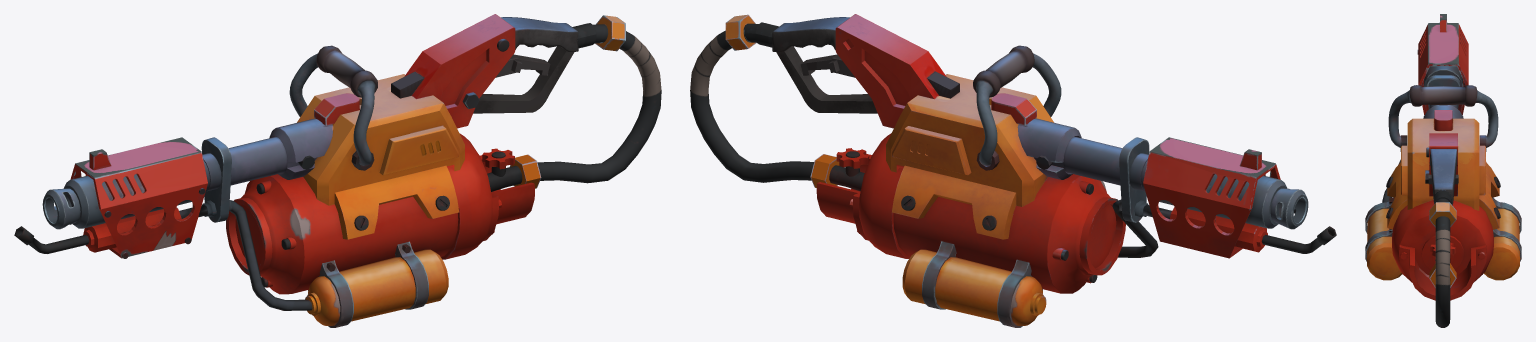
Rendered from Gun.fbx.
3 renders of one model, left to right at view 1: azimuth 30°, elevation 25°; view 2: azimuth 150°, elevation 25°; view 3: azimuth 270°, elevation 25°, orthographic. The views are drawn at different scales.
Visible parts, largest first — view 1: Cylinder.087, Cube.036, Cube.037, Cylinder.051, Vert.027, Cylinder.048, Retopo_Vert.002, Cylinder.049, Retopo_Vert.026, Cube.039, Vert.025, Cylinder.076 (+8 smaller); view 2: Cylinder.087, Cube.036, Cube.037, Cylinder.051, Vert.027, Cylinder.048, Retopo_Vert.002, Cylinder.049, Retopo_Vert.026, Cube.039, Cylinder.076, Retopo_Vert.001 (+8 smaller); view 3: Cylinder.087, Cube.036, Cylinder.048, Cube.037, Retopo_Vert.026, Retopo_Vert.002, Cylinder.049, Retopo_Vert.001, Cylinder.051, Cylinder.076, Vert.027, Cylinder.061 (+4 smaller).
Part boxes in pixels (x1,y1,x2,y2): Cylinder.087: (226, 133, 534, 294); Cube.036: (297, 74, 464, 205); Cube.037: (70, 137, 207, 258); Cylinder.051: (42, 118, 333, 229); Vert.027: (391, 14, 515, 128); Cylinder.048: (305, 249, 448, 325); Retopo_Vert.002: (487, 23, 661, 191); Cylinder.049: (334, 165, 459, 239); Retopo_Vert.026: (289, 45, 377, 165); Cube.039: (473, 46, 574, 113); Vert.025: (179, 200, 312, 310); Cylinder.076: (308, 241, 428, 327); Cylinder.087: (816, 133, 1125, 293); Cube.036: (886, 74, 1053, 206); Cube.037: (1143, 137, 1280, 258); Cylinder.051: (1017, 118, 1308, 229); Vert.027: (835, 14, 959, 128); Cylinder.048: (902, 249, 1046, 325); Retopo_Vert.002: (690, 22, 864, 191); Cylinder.049: (892, 165, 1016, 239); Retopo_Vert.026: (973, 45, 1061, 165); Cube.039: (776, 46, 877, 113); Cylinder.076: (922, 241, 1042, 327); Retopo_Vert.001: (772, 17, 849, 52); Cylinder.087: (1392, 159, 1493, 300); Cube.036: (1400, 118, 1486, 210); Cylinder.048: (1366, 208, 1520, 280); Cube.037: (1418, 14, 1468, 114); Retopo_Vert.026: (1388, 85, 1498, 147); Retopo_Vert.002: (1434, 190, 1451, 327); Cylinder.049: (1387, 162, 1499, 229); Retopo_Vert.001: (1429, 149, 1457, 205); Cylinder.051: (1423, 22, 1463, 118); Cylinder.076: (1365, 197, 1521, 261); Vert.027: (1425, 133, 1457, 196); Cylinder.061: (1429, 202, 1456, 227).
Size of the model in its own units: 3.73 by 1.25 by 1.01.
